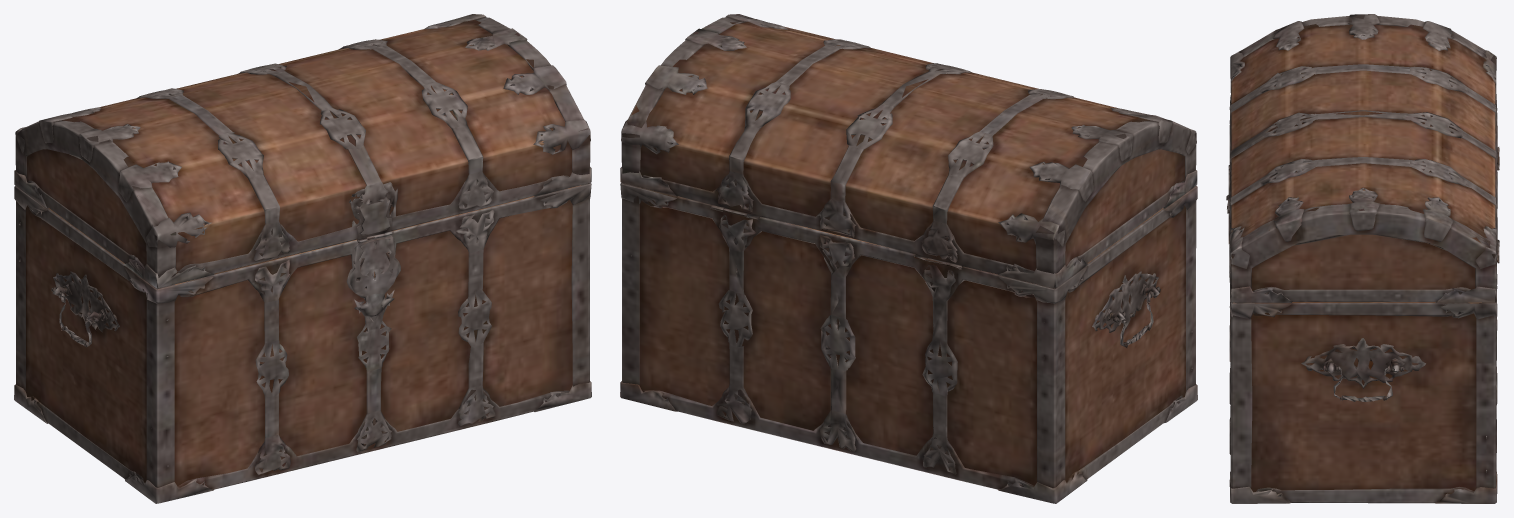
The model's file is treasure_chest.glb.
The picture shows the model from 3 angles, left to right: view 1: azimuth 30°, elevation 25°; view 2: azimuth 150°, elevation 25°; view 3: azimuth 270°, elevation 25°; orthographic projection. The views are drawn at different scales.
Visible parts, largest first — view 1: treasure_chest; view 2: treasure_chest; view 3: treasure_chest.
Part boxes in pixels (x1,y1,x2,y2): treasure_chest: (14,14,591,503); treasure_chest: (620,14,1197,503); treasure_chest: (1226,14,1499,503).
Size of the model in its own units: 0.958 by 0.6177 by 0.5223.
1 material, 1 textured.
